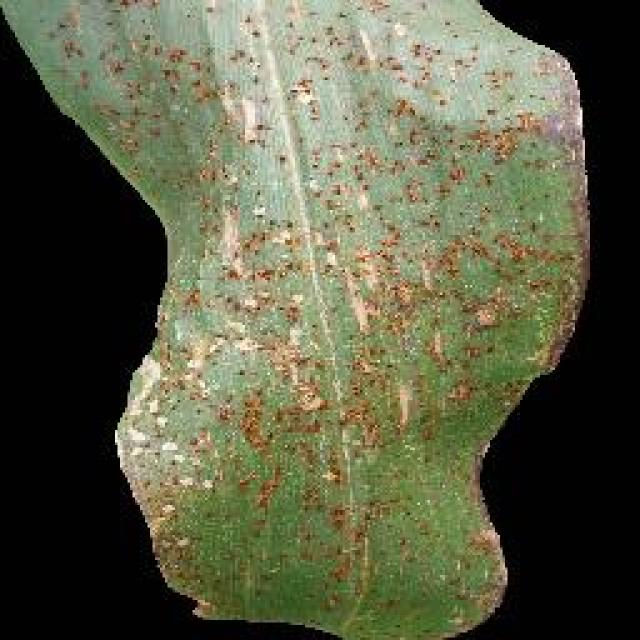Corn Common Rust: (122, 64, 510, 584)
